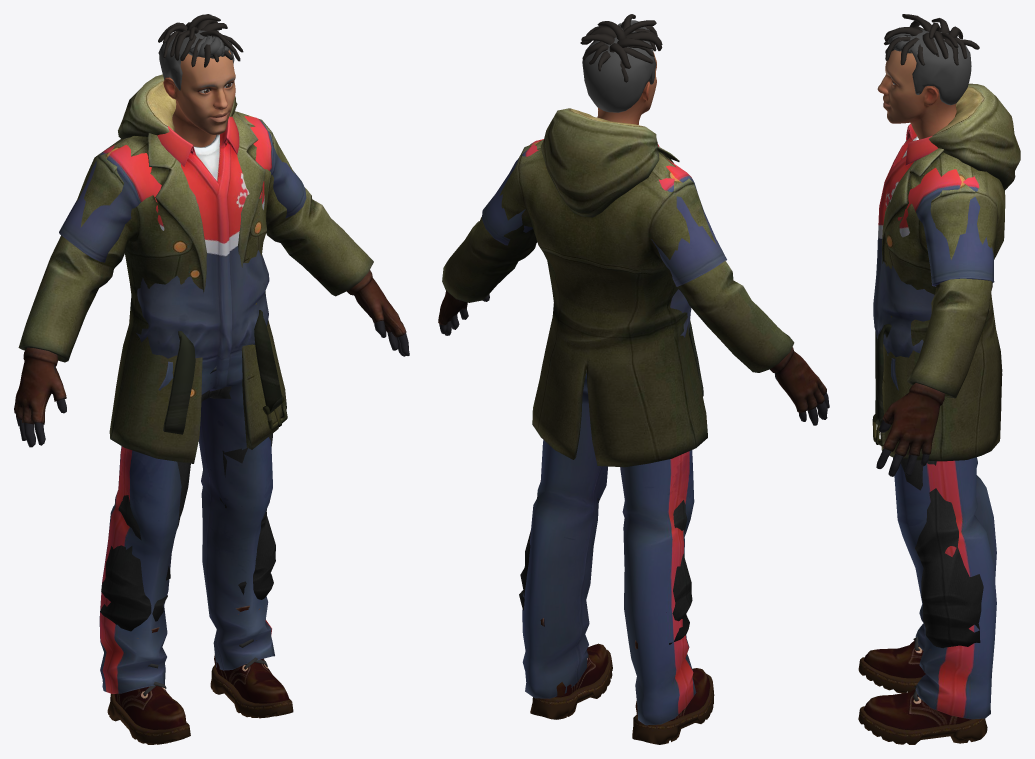
File: avatar-custom.glb
The picture shows the model from 3 angles, left to right: view 1: azimuth 30°, elevation 25°; view 2: azimuth 150°, elevation 25°; view 3: azimuth 270°, elevation 25°; orthographic projection.
Parts seen in each view (by area): view 1: Wolf3D_Outfit_Top_2, Wolf3D_Outfit_Bottom, Wolf3D_Outfit_Top, Wolf3D_Outfit_Footwear, Wolf3D_Outfit_Bottom_2, Wolf3D_Head, Wolf3D_Hair_2, Wolf3D_Hair 1; view 2: Wolf3D_Outfit_Top_2, Wolf3D_Outfit_Bottom, Wolf3D_Outfit_Top, Wolf3D_Outfit_Footwear, Wolf3D_Hair 1, Wolf3D_Hair_2, Wolf3D_Outfit_Bottom_2, Wolf3D_Head; view 3: Wolf3D_Outfit_Top_2, Wolf3D_Outfit_Bottom, Wolf3D_Outfit_Top, Wolf3D_Outfit_Bottom_2, Wolf3D_Outfit_Footwear, Wolf3D_Head, Wolf3D_Hair 1, Wolf3D_Hair_2.
Part boxes in pixels (box(x1,y1,x2,y2)): Wolf3D_Outfit_Top_2: box(14, 74, 406, 463); Wolf3D_Outfit_Bottom: box(99, 350, 274, 693); Wolf3D_Outfit_Top: box(16, 116, 409, 447); Wolf3D_Outfit_Footwear: box(107, 605, 293, 744); Wolf3D_Outfit_Bottom_2: box(100, 386, 275, 631); Wolf3D_Head: box(163, 50, 235, 147); Wolf3D_Hair_2: box(158, 14, 243, 67); Wolf3D_Hair 1: box(159, 30, 234, 90); Wolf3D_Outfit_Top_2: box(438, 108, 826, 467); Wolf3D_Outfit_Bottom: box(522, 373, 696, 725); Wolf3D_Outfit_Top: box(439, 139, 829, 425); Wolf3D_Outfit_Footwear: box(530, 618, 714, 744); Wolf3D_Hair 1: box(582, 20, 656, 112); Wolf3D_Hair_2: box(580, 14, 662, 82); Wolf3D_Outfit_Bottom_2: box(519, 498, 692, 644); Wolf3D_Head: box(597, 51, 656, 124); Wolf3D_Outfit_Top_2: box(872, 83, 1020, 461); Wolf3D_Outfit_Bottom: box(887, 354, 996, 719); Wolf3D_Outfit_Top: box(873, 123, 994, 476); Wolf3D_Outfit_Bottom_2: box(900, 458, 983, 648); Wolf3D_Outfit_Footwear: box(858, 637, 987, 744); Wolf3D_Head: box(877, 50, 956, 139); Wolf3D_Hair 1: box(888, 29, 971, 105); Wolf3D_Hair_2: box(884, 14, 979, 65).
Size of the model in its own units: 1.06 by 1.85 by 0.3959.
Materials: 12 (12 with a texture image).
